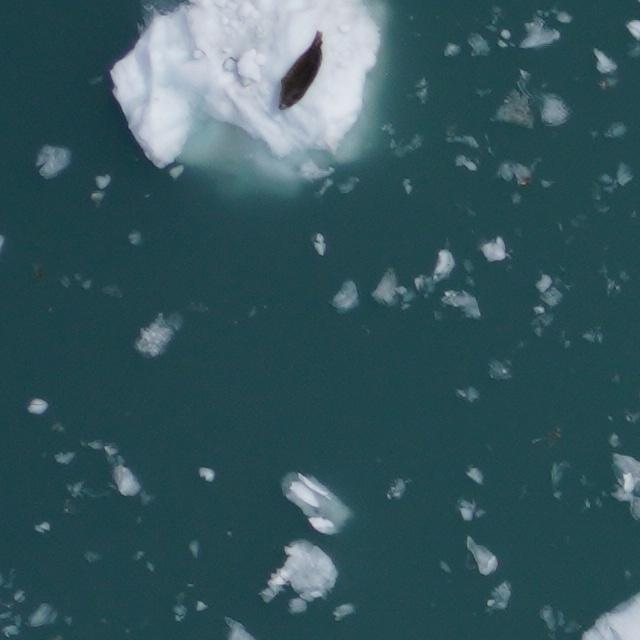seal: (278, 30, 323, 111)
